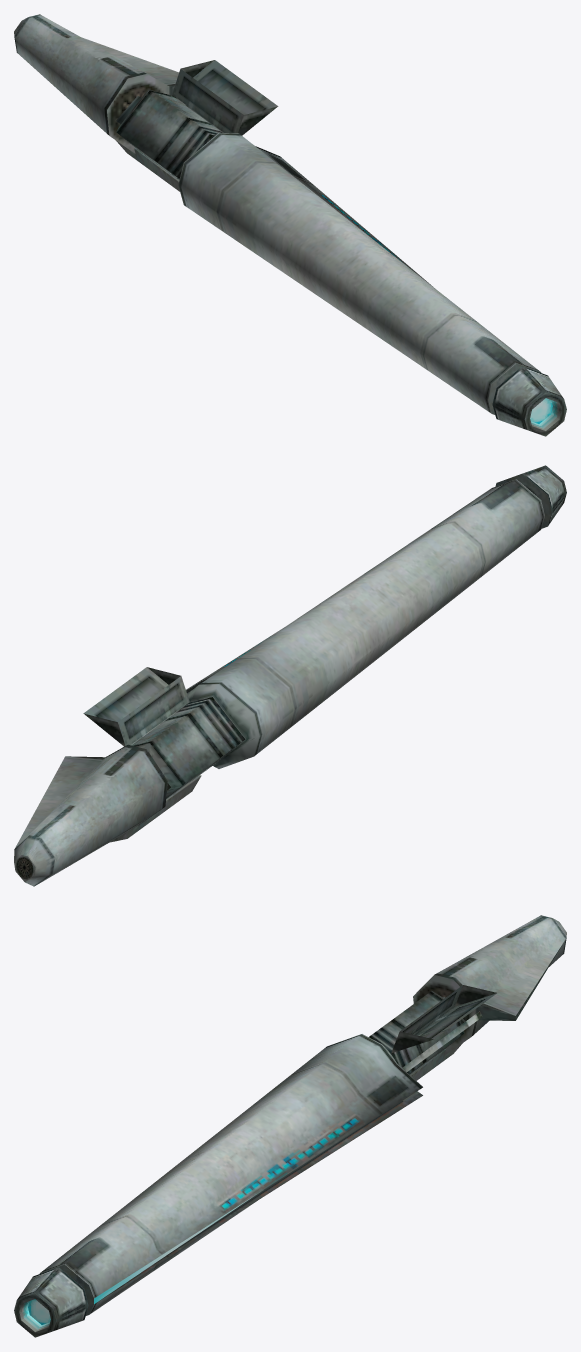
The model's file is xwing_weapon2_neg_s02_l1.fbx.
3 views of the same model, one above another, from view 1: azimuth 30°, elevation 25°; view 2: azimuth 150°, elevation 25°; view 3: azimuth 330°, elevation 25° (orthographic).
Visible parts, largest first — view 1: mesh_node; view 2: mesh_node; view 3: mesh_node.
Part boxes in pixels (left/top/right/bottom): mesh_node: left=14, top=14, right=566, bottom=436; mesh_node: left=14, top=465, right=566, bottom=886; mesh_node: left=14, top=915, right=566, bottom=1337.
Bounding box in the file's own units: 0.3252 × 0.2637 × 2.67.
Materials: 1 (1 with a texture image).
